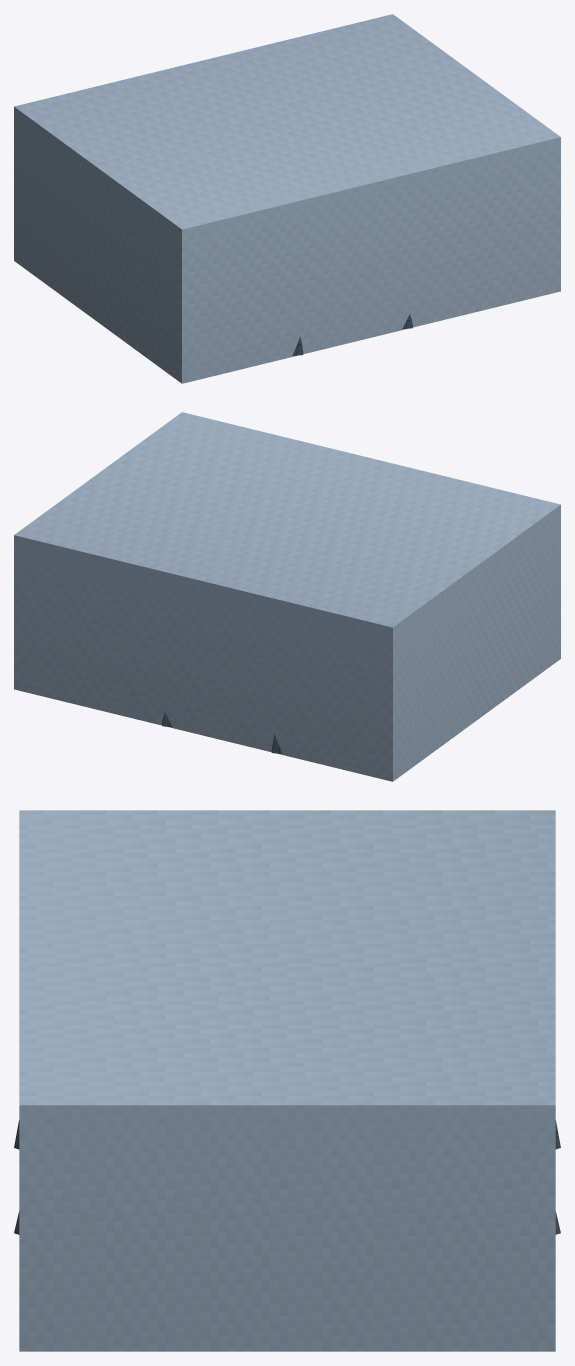
Rendered from level.gltf.
3 renders of one model, top to bottom at view 1: azimuth 30°, elevation 25°; view 2: azimuth 150°, elevation 25°; view 3: azimuth 270°, elevation 25°, orthographic. The views are drawn at different scales.
Visible parts, largest first — view 1: PROP_SECTOR_1; view 2: PROP_SECTOR_1; view 3: PROP_SECTOR_1.
Part boxes in pixels (x1,y1,x2,y2): PROP_SECTOR_1: (14,14,560,383); PROP_SECTOR_1: (14,412,560,781); PROP_SECTOR_1: (19,810,555,1351).
Bounding box in the file's own units: 415 × 168 × 325.
Materials: 2 (2 with a texture image).
